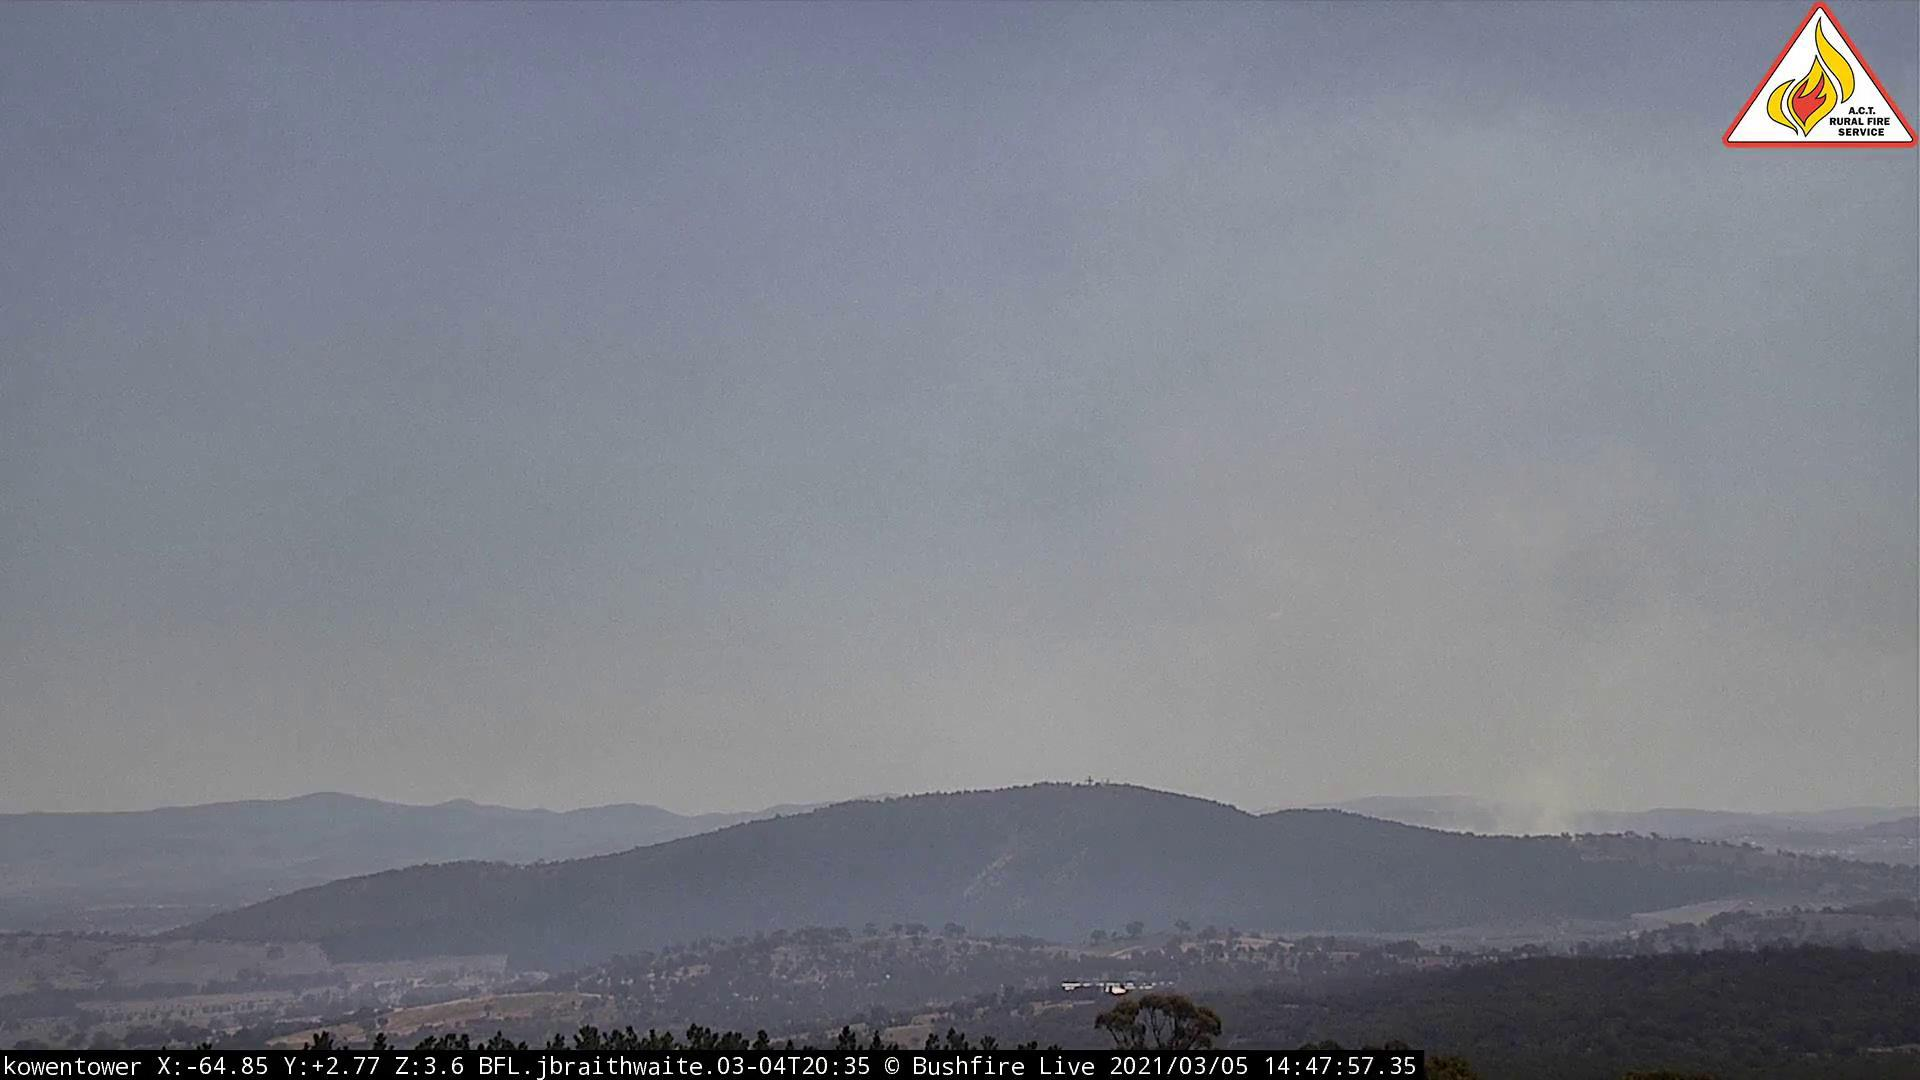instance_salient_object: (1224, 400, 1830, 877)
